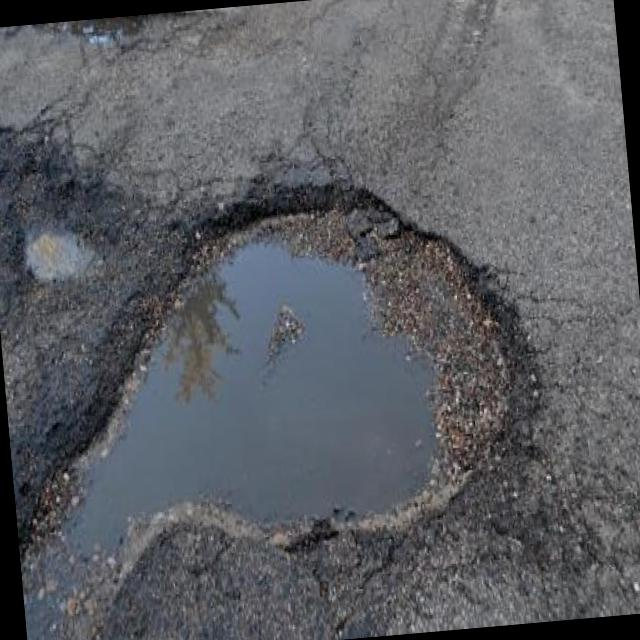Lubang: (19, 190, 540, 640), (0, 129, 117, 318), (43, 15, 146, 47)
